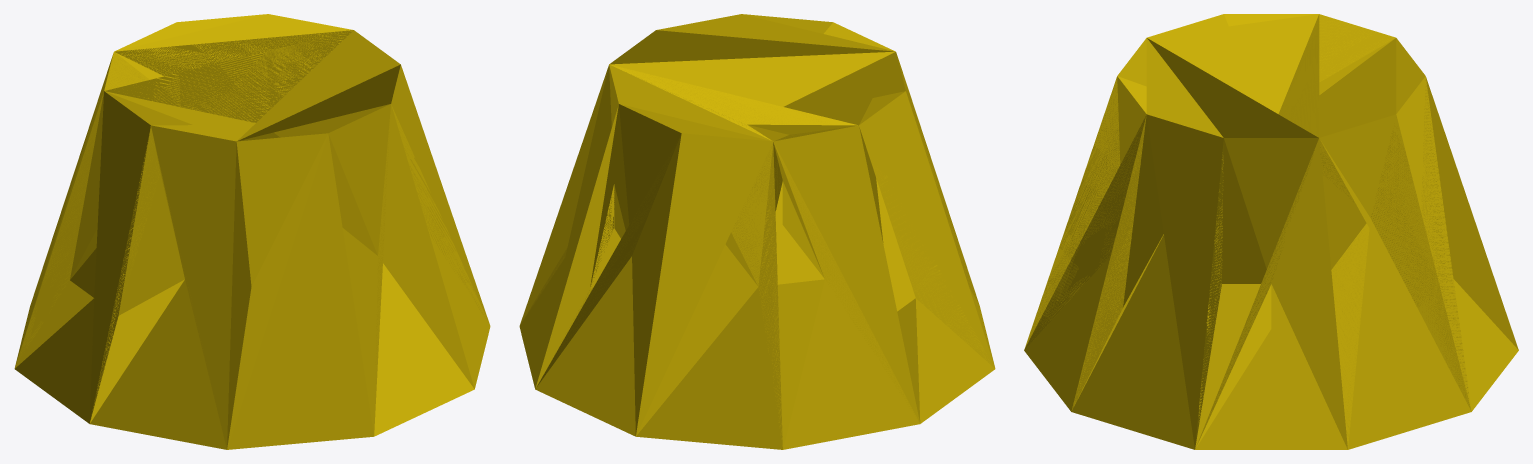
Rendered from tetrapudding.obj.
3 renders of one model, left to right at view 1: azimuth 30°, elevation 25°; view 2: azimuth 150°, elevation 25°; view 3: azimuth 270°, elevation 25°, orthographic.
Visible parts, largest first — view 1: Tets; view 2: Tets; view 3: Tets.
Boxes of the visible parts, x1,y1,x2,y2 form: Tets: [14, 14, 490, 449]; Tets: [519, 14, 995, 449]; Tets: [1024, 14, 1518, 449].
Bounding box in the file's own units: 1.9 × 1.22 × 2.
